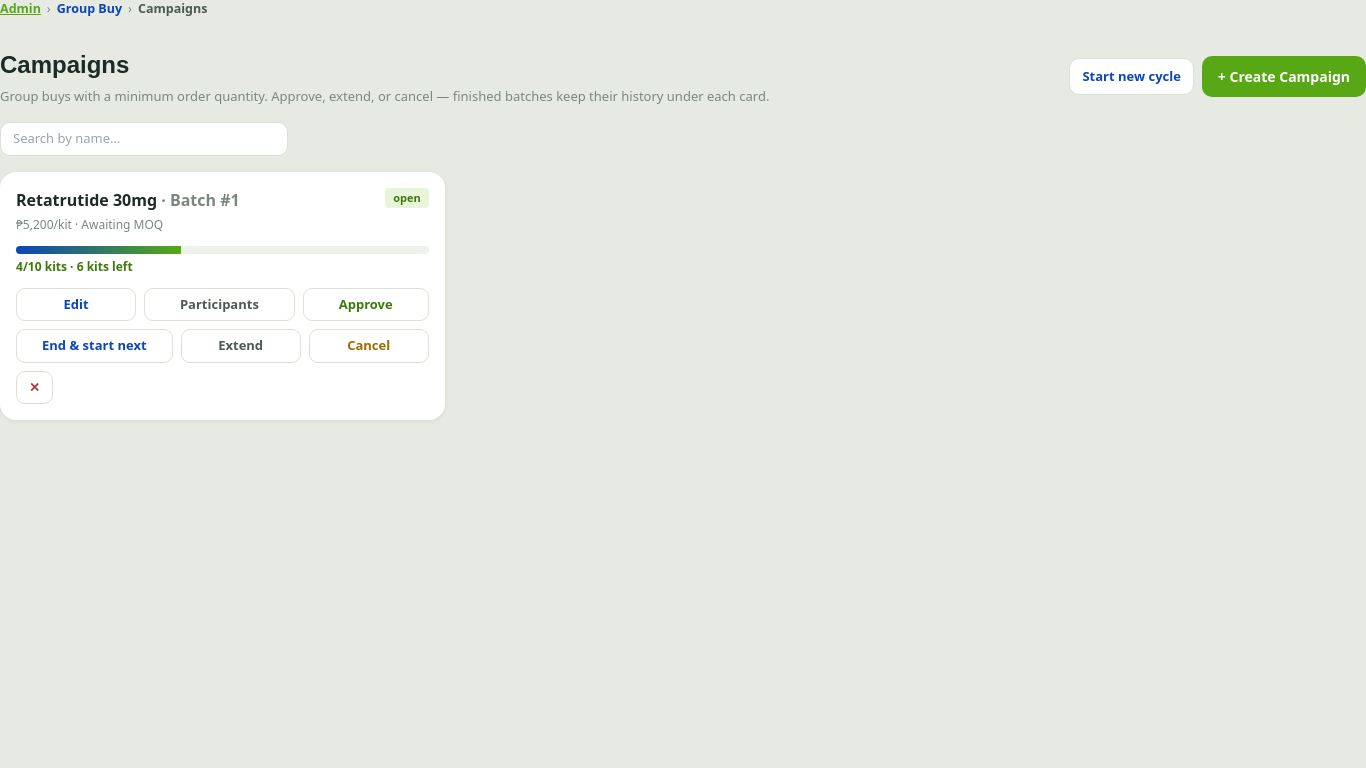
Test: starting a new cycle › says batches nobody joined stay open and are re-read from the catalog
The width and height of the screenshot is (1366, 768).
Step 1. Click the button "Start new cycle" → (1132, 77), box [1069,58,1194,95]
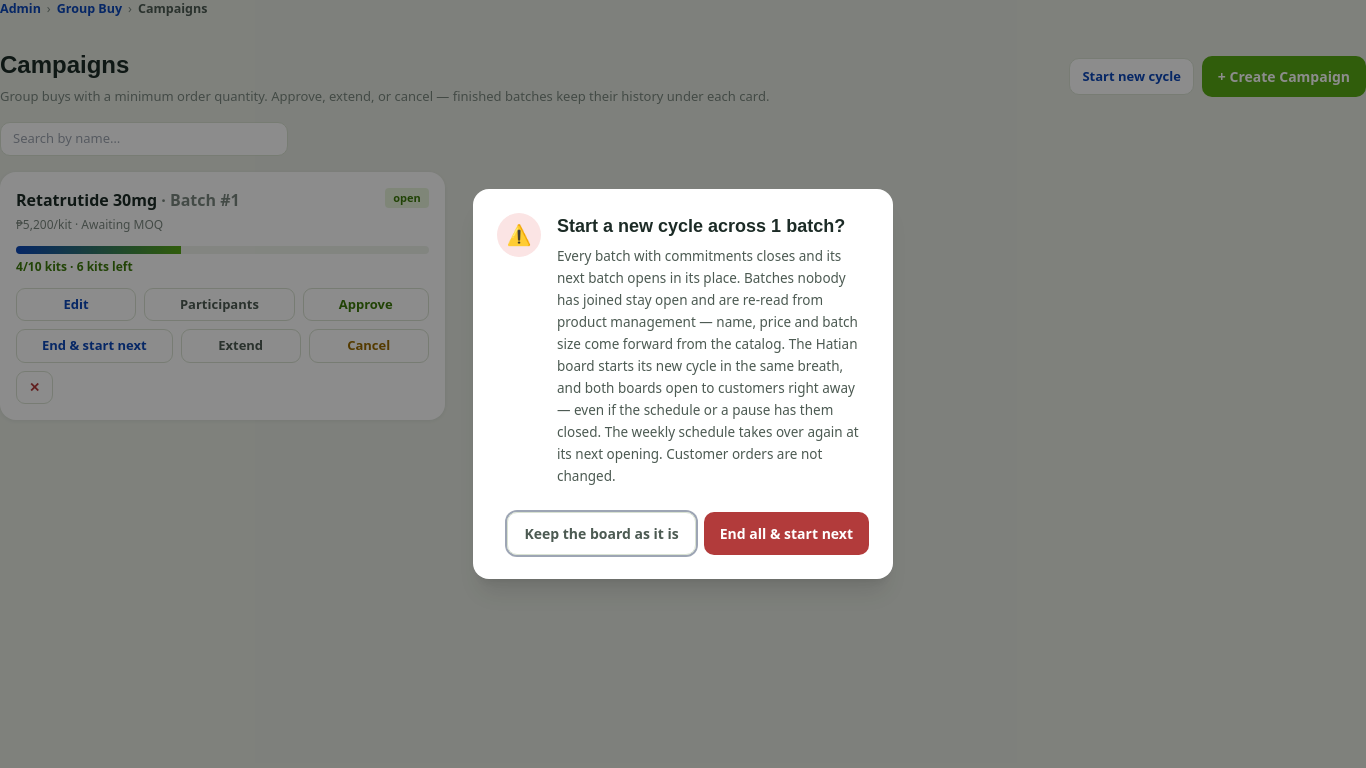
Check: the text "re-read from product management" is shown, box [557,247,859,485]
